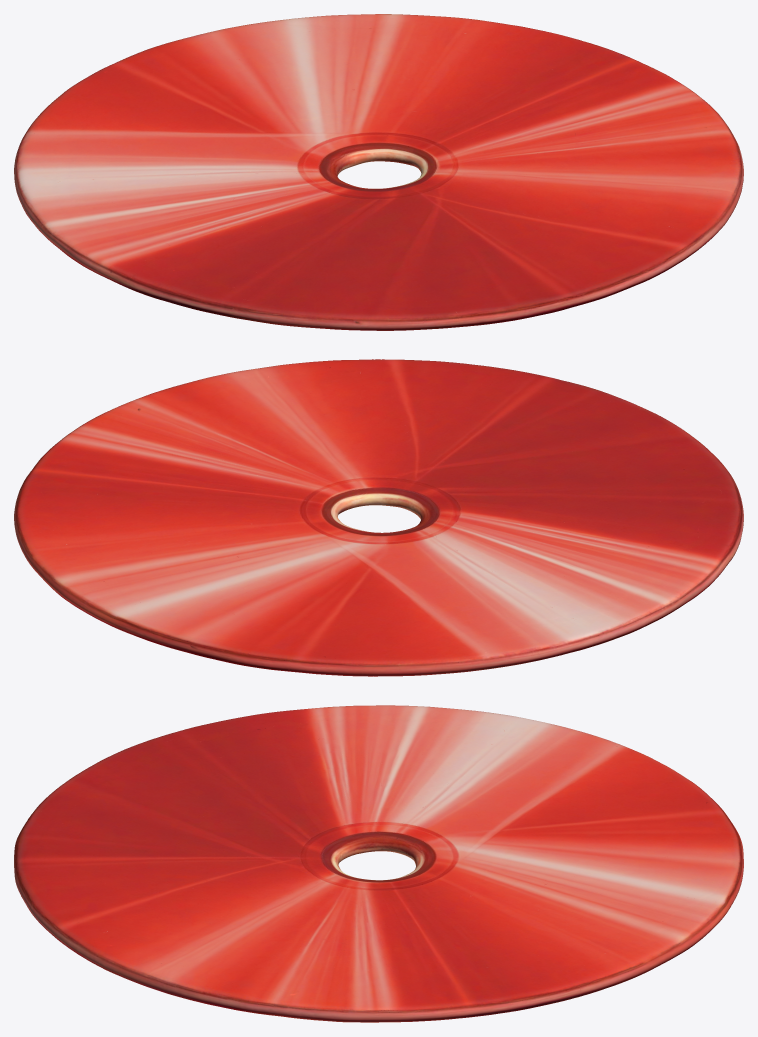
3 renders of one model, top to bottom at view 1: azimuth 30°, elevation 25°; view 2: azimuth 150°, elevation 25°; view 3: azimuth 270°, elevation 25°, orthographic.
Bounding box in the file's own units: 2 × 0.0483 × 2.
1 material, 1 textured.
